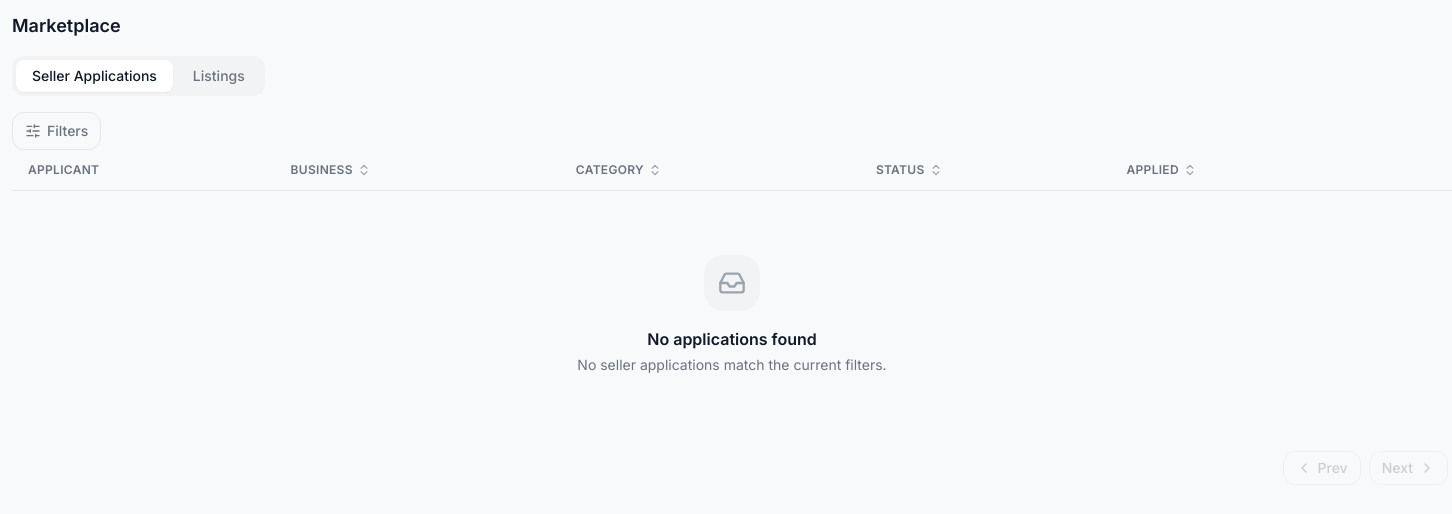
MarketplacePage › switches to listings tab on click
Click the button with test id "tab-listings" at [219, 76], box [177,60,261,92]
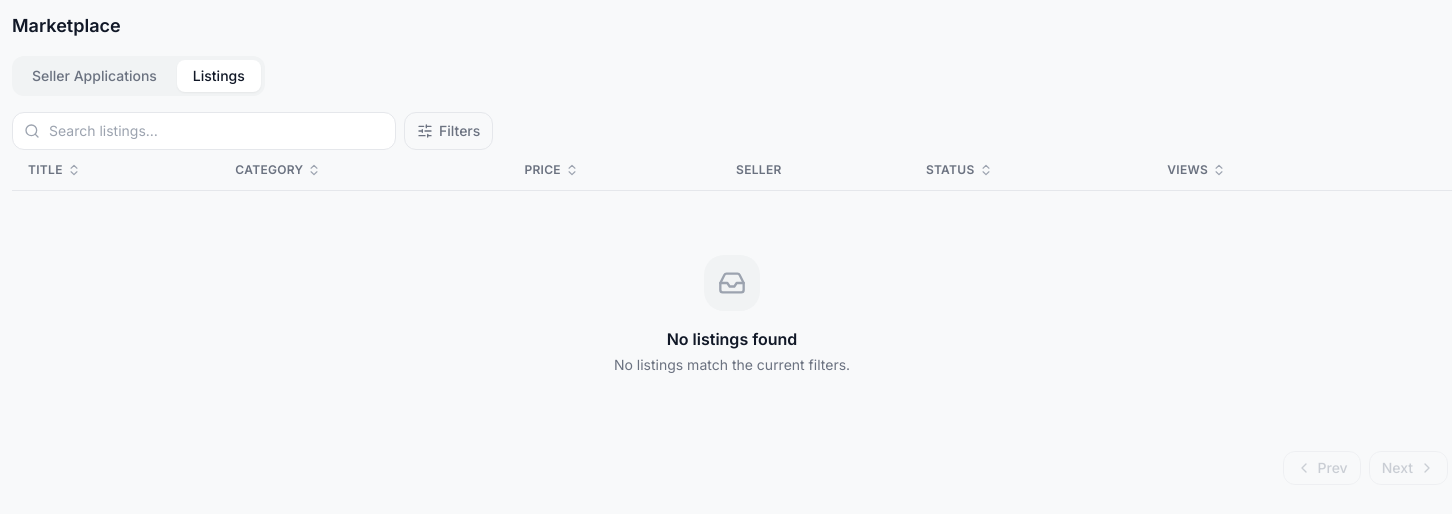
Expected: the element with test id "listings-tab-content" is shown
